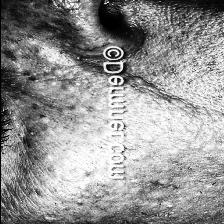Unclassified: (60, 164, 95, 192), (12, 70, 42, 86)
